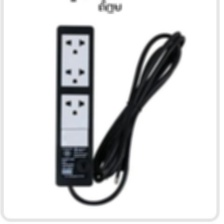three_eye_plug: (53, 23, 96, 188)
